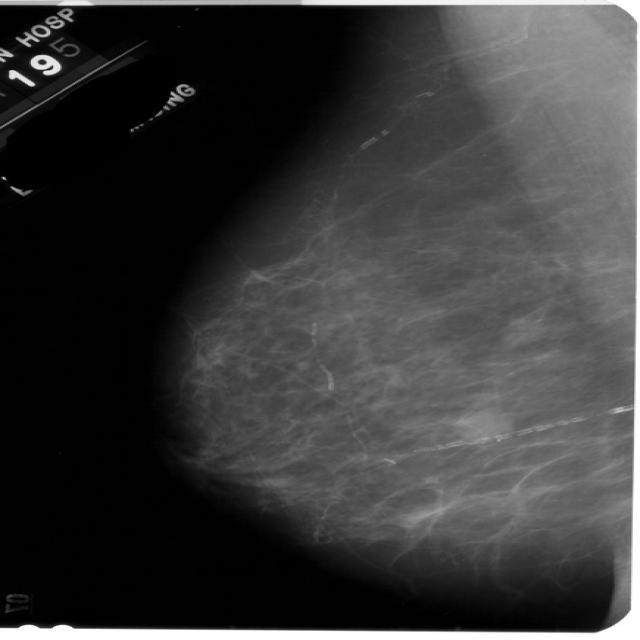tumour: (453, 405, 514, 442)
